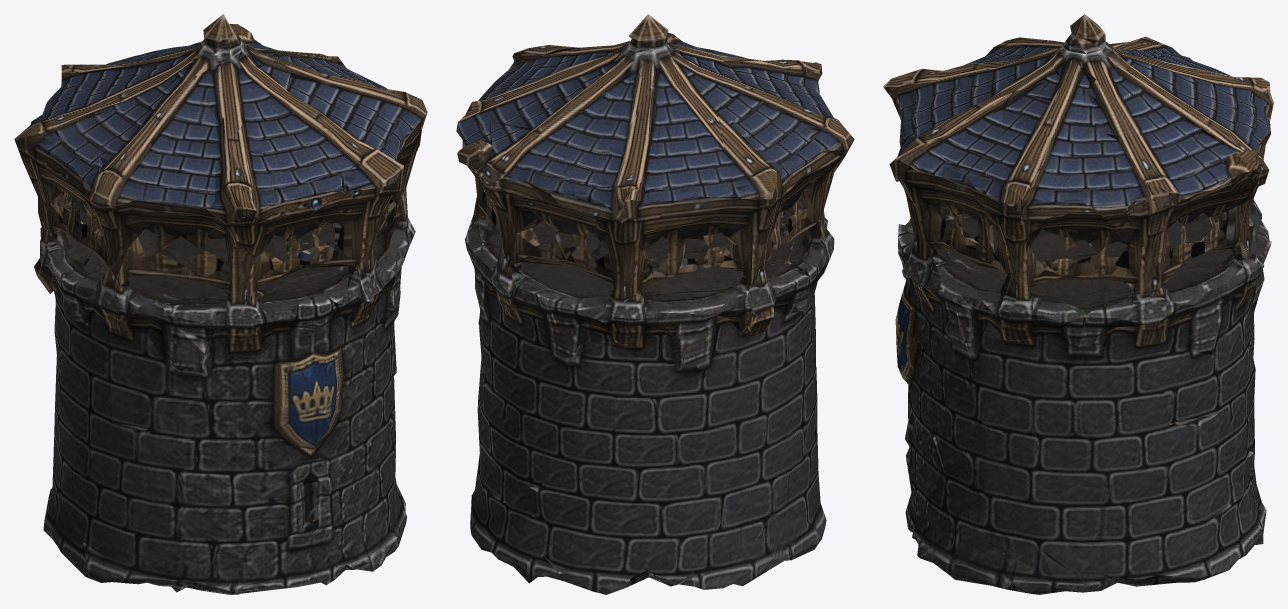
File: war_tower.glb
3 views of the same model, side by side, from view 1: azimuth 30°, elevation 25°; view 2: azimuth 150°, elevation 25°; view 3: azimuth 270°, elevation 25° (orthographic).
Parts seen in each view (by area): view 1: output_unwrapped; view 2: output_unwrapped; view 3: output_unwrapped.
Part boxes in pixels (x1,y1,x2,y2): output_unwrapped: (14,14,427,594); output_unwrapped: (456,14,854,594); output_unwrapped: (883,14,1273,594).
Bounding box in the file's own units: 1.29 × 1.9 × 1.31.
Materials: 1 (1 with a texture image).
